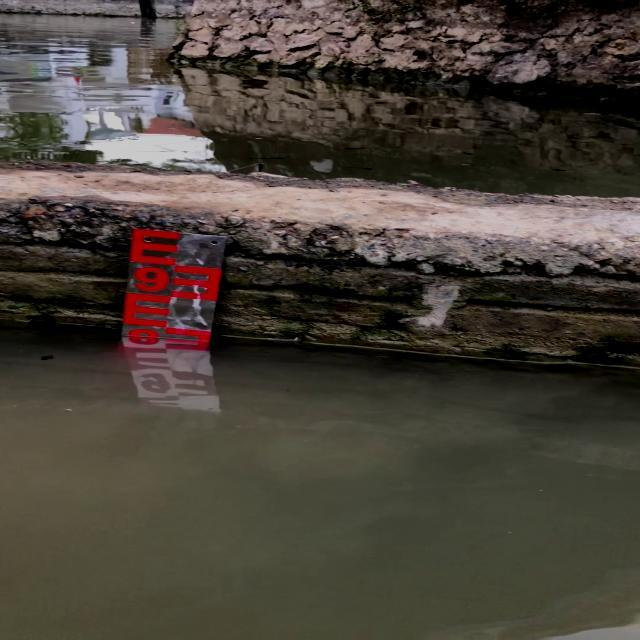ruler: (119, 218, 233, 349)
value: (129, 259, 174, 300)
